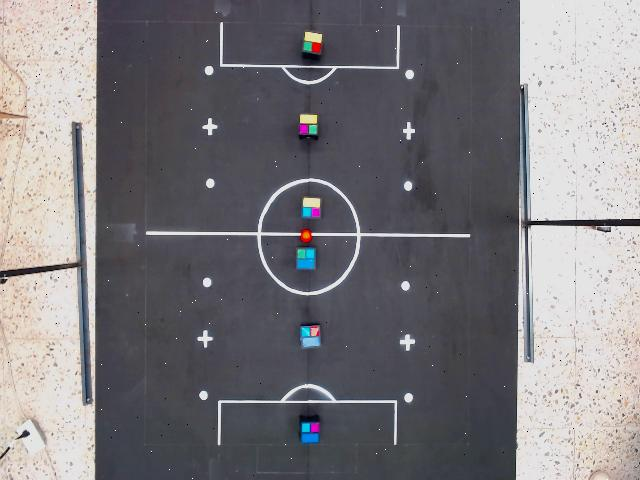robot: (298, 323, 324, 350), (297, 111, 320, 139), (300, 30, 324, 56), (299, 419, 322, 446), (300, 195, 324, 220), (296, 246, 318, 273)
